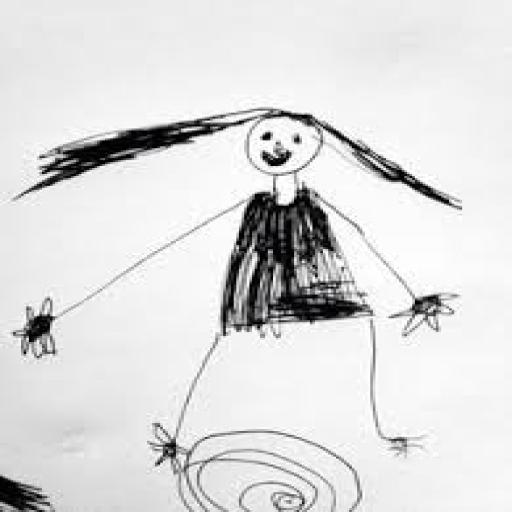person: (4, 96, 474, 474)
